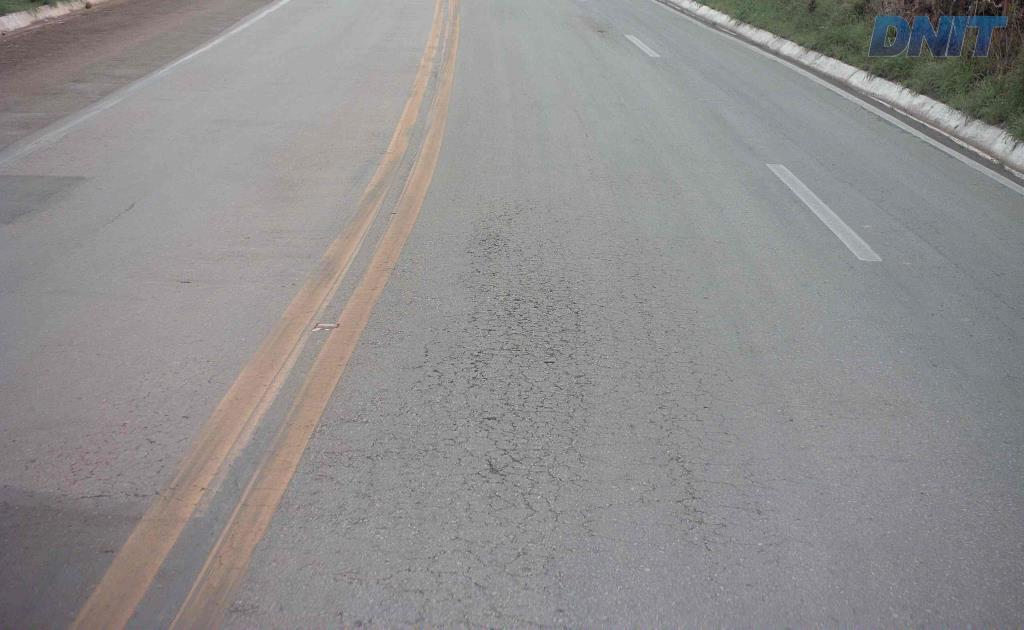crack: (489, 275, 568, 344)
